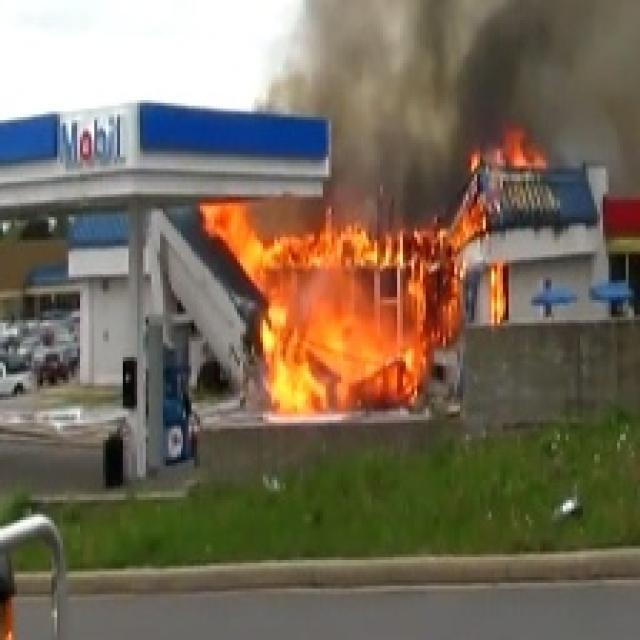Fire: (201, 196, 484, 420)
Smoke: (268, 2, 638, 196)
